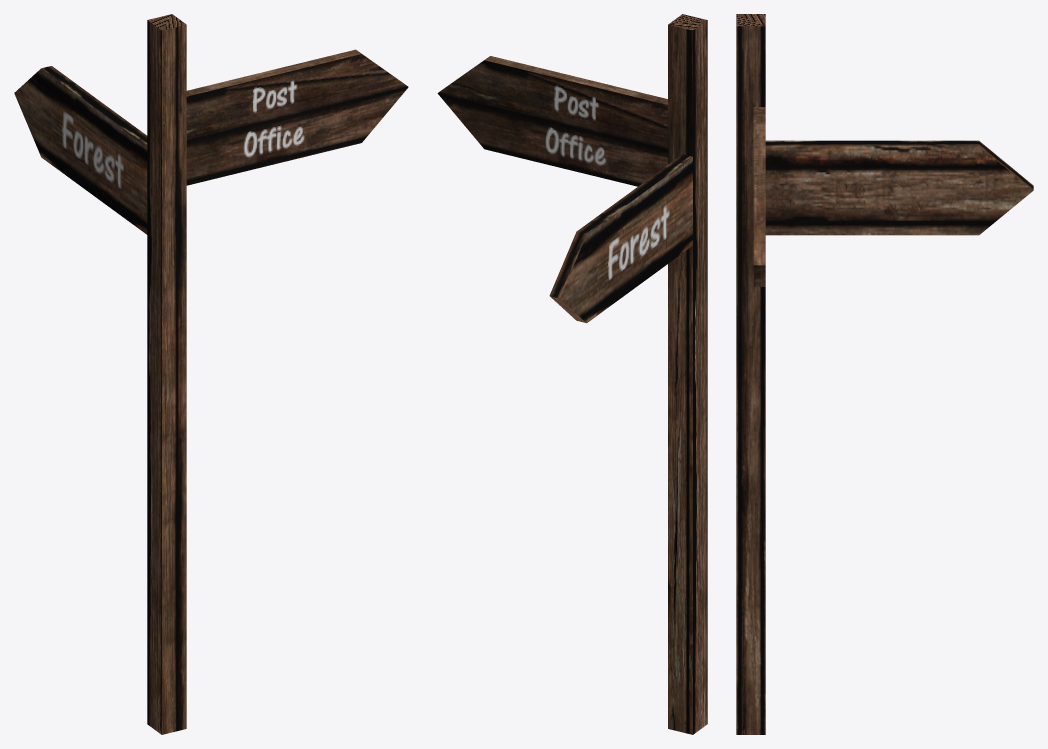
File: direction5.fbx
3 views of the same model, side by side, from view 1: azimuth 30°, elevation 25°; view 2: azimuth 150°, elevation 25°; view 3: azimuth 270°, elevation 25° (orthographic).
Visible parts, largest first — view 1: Plane.072; view 2: Plane.072; view 3: Plane.072.
Boxes of the visible parts, bbox=[...] form: Plane.072: bbox=[14, 14, 408, 734]; Plane.072: bbox=[437, 14, 707, 734]; Plane.072: bbox=[736, 14, 1033, 734].
Bounding box in the file's own units: 132 × 348 × 132.
1 material, 1 textured.
